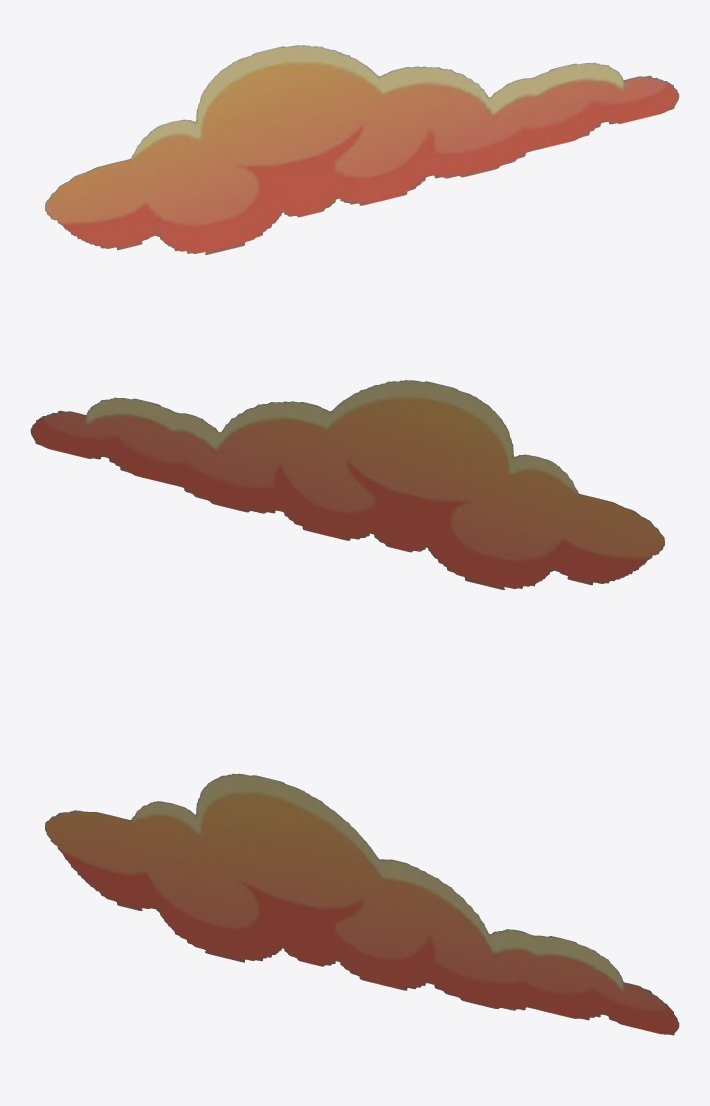
The model's file is Nube_001.fbx.
3 renders of one model, top to bottom at view 1: azimuth 30°, elevation 25°; view 2: azimuth 150°, elevation 25°; view 3: azimuth 330°, elevation 25°, orthographic.
Parts seen in each view (by area): view 1: Plane.002; view 2: Plane.002; view 3: Plane.002.
Boxes of the visible parts, x1,y1,x2,y2 form: Plane.002: [45, 45, 679, 254]; Plane.002: [30, 380, 664, 589]; Plane.002: [45, 773, 679, 1035].
Bounding box in the file's own units: 1140 × 385 × 1.68e-05.
